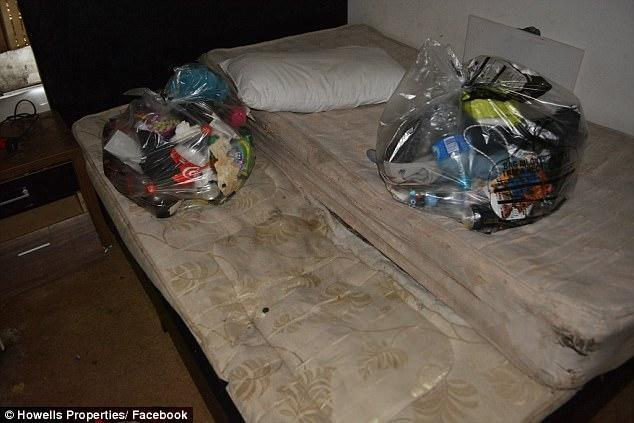Bed-Mattress: (181, 14, 634, 395)
